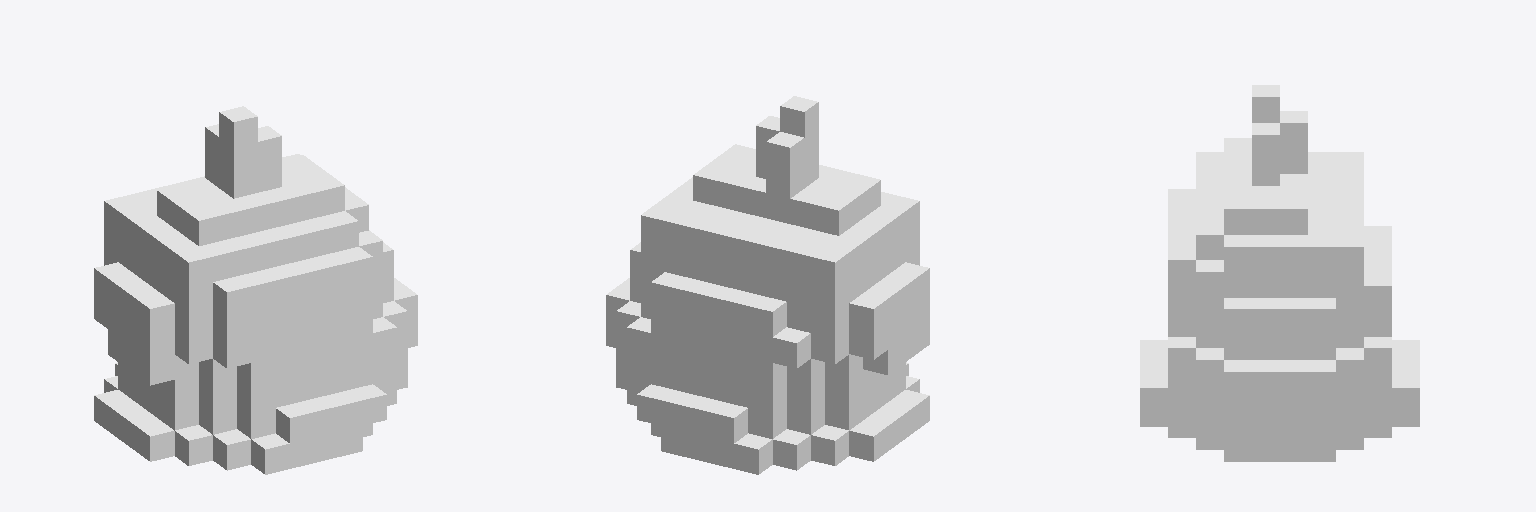
The model's file is head.obj.
The picture shows the model from 3 angles: view 1: azimuth 30°, elevation 25°; view 2: azimuth 150°, elevation 25°; view 3: azimuth 270°, elevation 25°; orthographic projection.
Parts seen in each view (by area): view 1: head.001; view 2: head.001; view 3: head.001.
Part boxes in pixels (left/top/right/bottom): head.001: left=94, top=106, right=417, bottom=474; head.001: left=606, top=96, right=929, bottom=474; head.001: left=1140, top=85, right=1419, bottom=461.
Size of the model in its own units: 0.9167 by 1 by 0.8333.